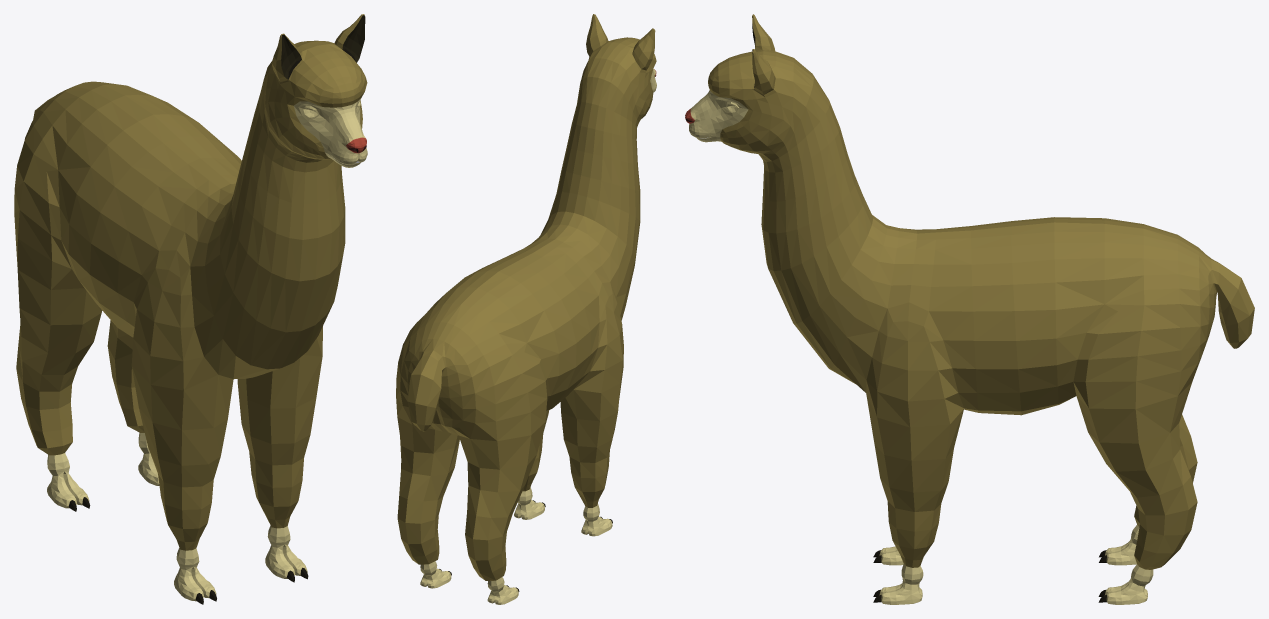
The model's file is alpaca_alpaca.obj.
The picture shows the model from 3 angles, left to right: view 1: azimuth 30°, elevation 25°; view 2: azimuth 150°, elevation 25°; view 3: azimuth 270°, elevation 25°; orthographic projection. The views are drawn at different scales.
Size of the model in its own units: 0.4826 by 1.59 by 1.49.
